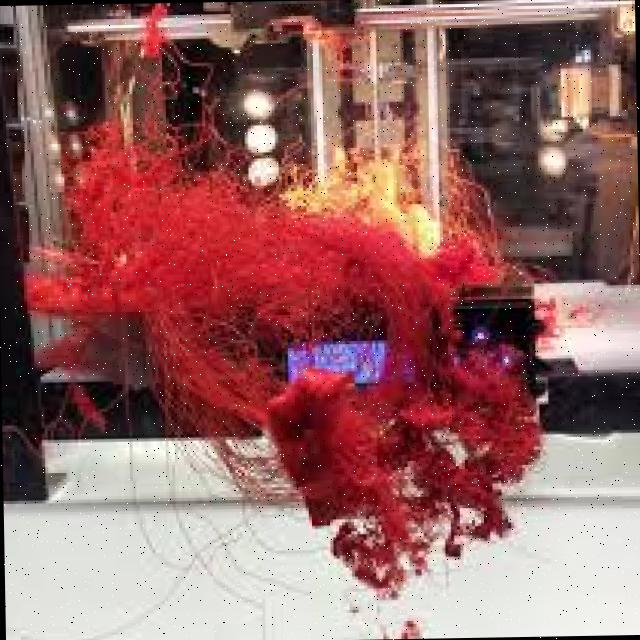spaghetti: (31, 94, 570, 610)
